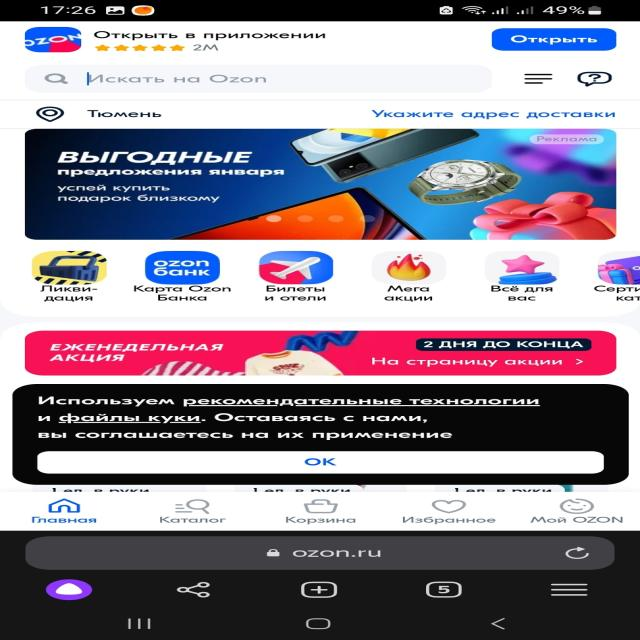button: (35, 450, 601, 473), (492, 28, 621, 51)
site: (15, 385, 630, 484), (0, 22, 640, 64)
